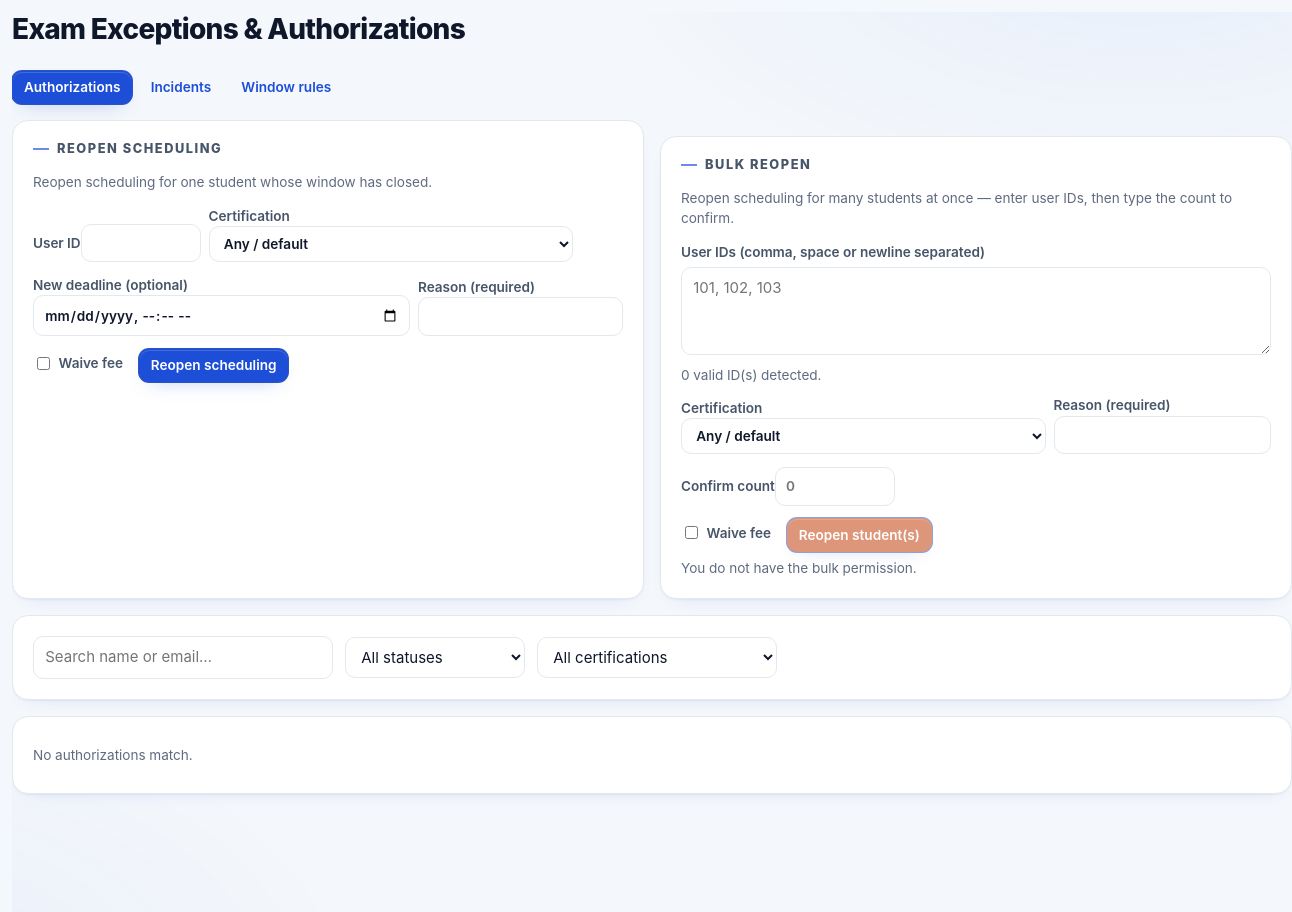
Test: ExamExceptions admin console › Reopen scheduling (RBAC + validation) › posts the reopen with its user, reason and waive-fee flag
# 'Reason (required)' also appears on the Bulk-reopen card, so scope to the Reopen card.
In the field labelled "User ID": (141,243) [81,224,201,262], type "42"
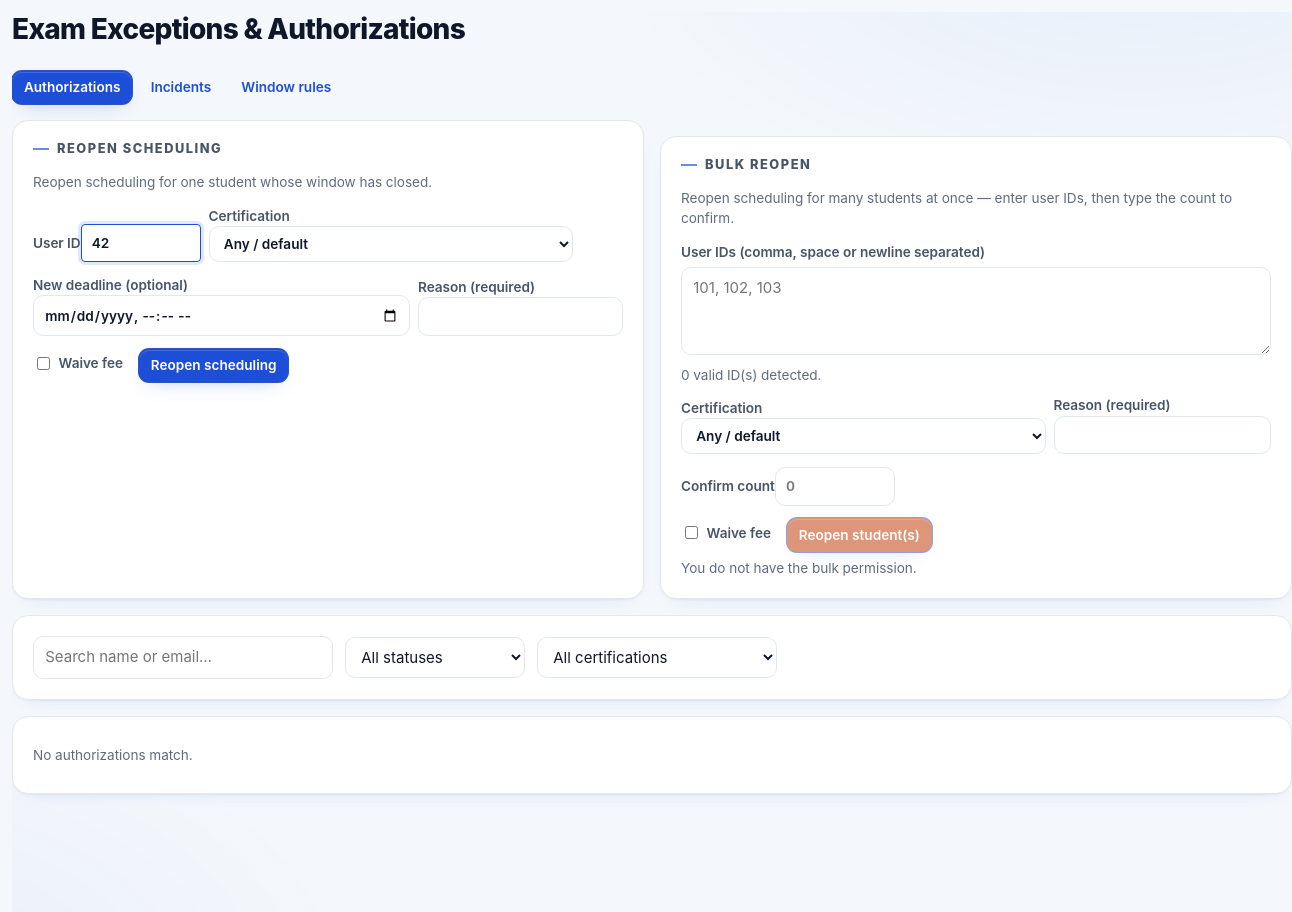
In the field labelled "Reason (required)" below "New deadline (optional)": (520,317) [418,298,623,336], type "incident on exam day"
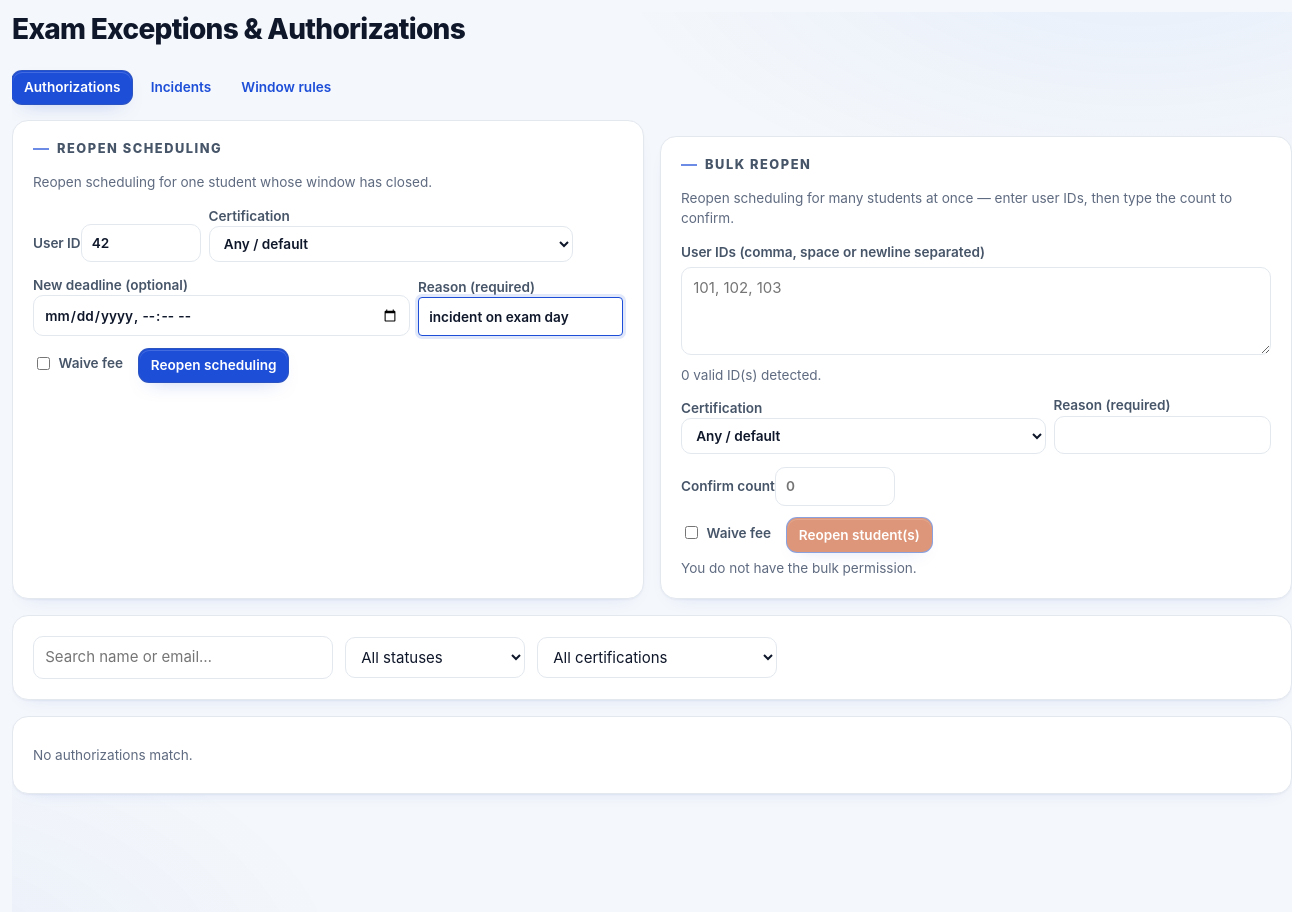
Click the checkbox labelled "Waive fee" below "New deadline (optional)": (44,363) [37,357,50,370]
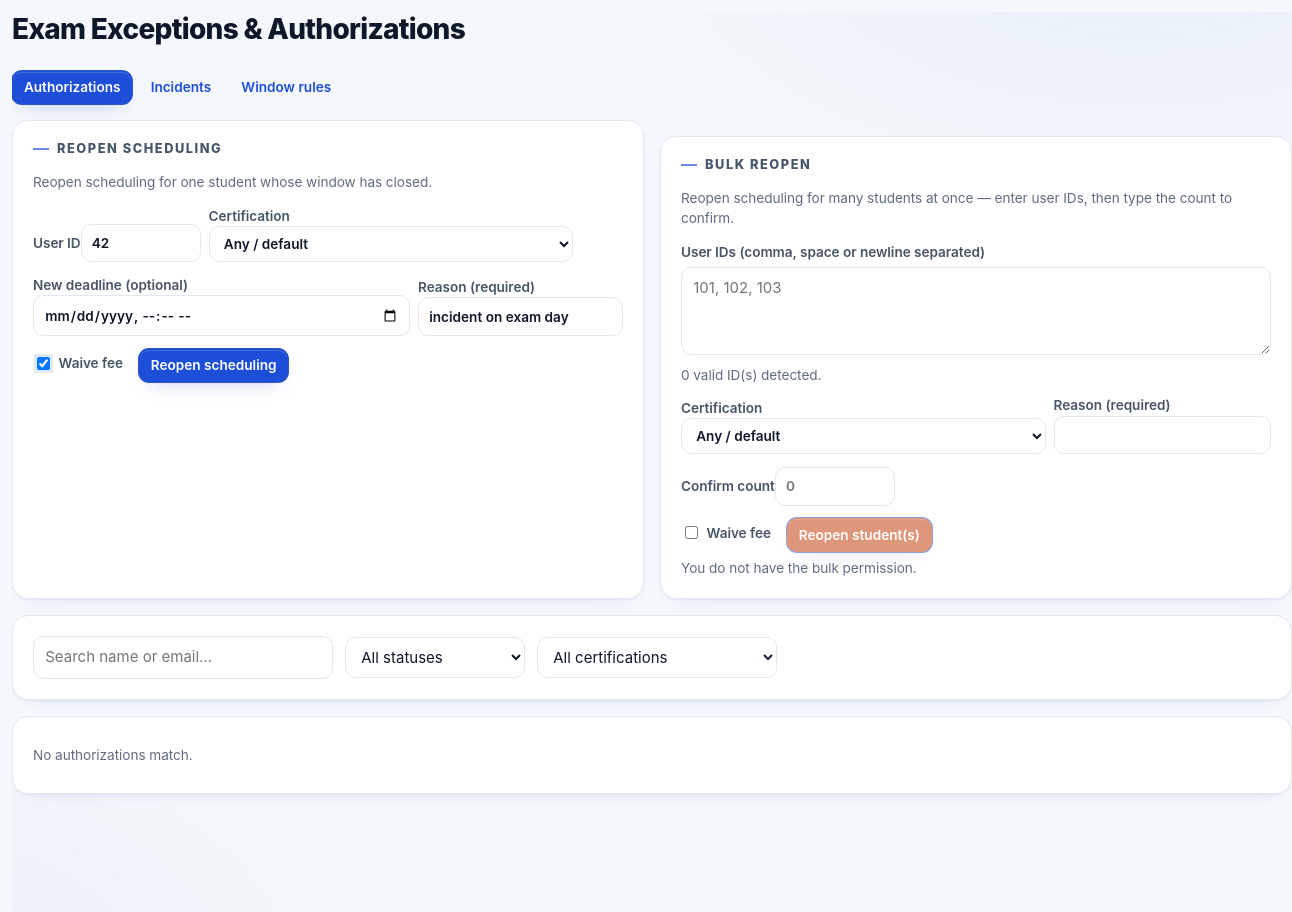
Click the button "Reopen scheduling": (214,366) [139,349,288,382]
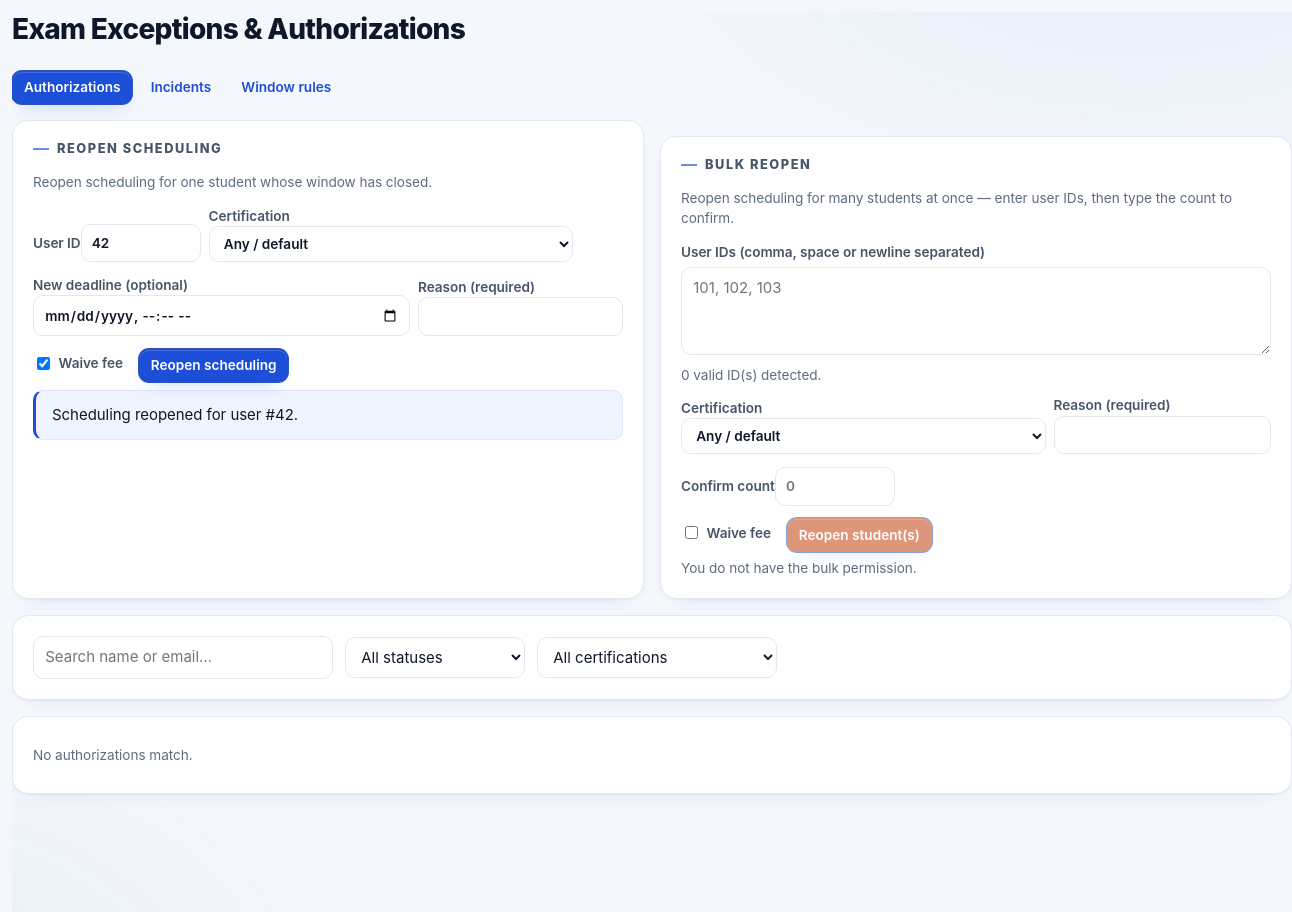
Check: the text "Scheduling reopened for user #42." is shown, box [33,390,623,440]
